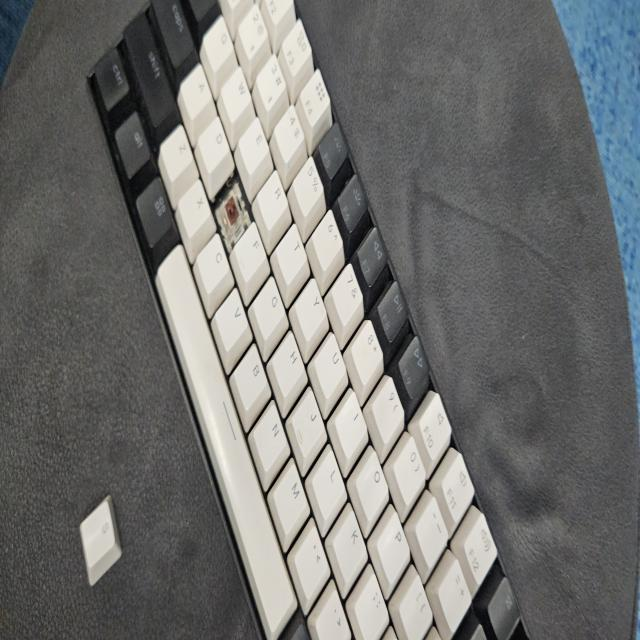C: (222, 187, 245, 230)
